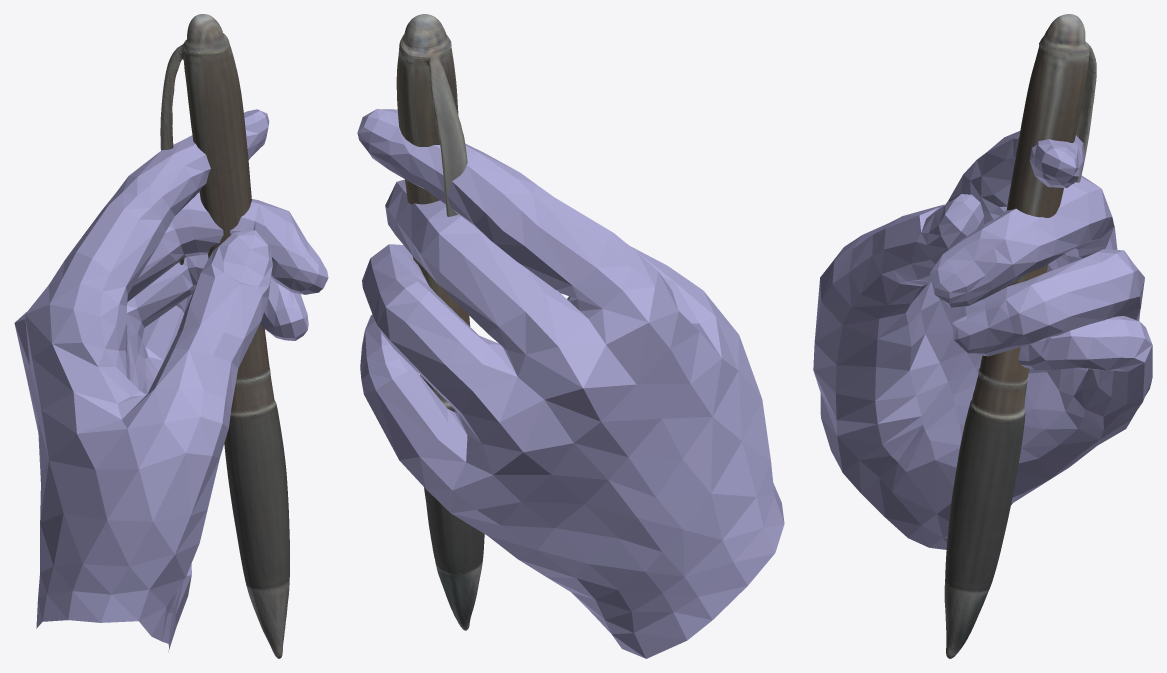
The model's file is frame_0048_source_000048_hand_object.glb.
3 renders of one model, left to right at view 1: azimuth 30°, elevation 25°; view 2: azimuth 150°, elevation 25°; view 3: azimuth 270°, elevation 25°, orthographic. The views are drawn at different scales.
Visible parts, largest first — view 1: world; view 2: world; view 3: world.
Part boxes in pixels (x1,y1,x2,y2): world: (14, 14, 328, 658); world: (357, 14, 784, 658); world: (813, 14, 1152, 658).
Size of the model in its own units: 0.1007 by 0.1893 by 0.0919.
